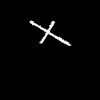single_crochet: (30, 21, 69, 45)
